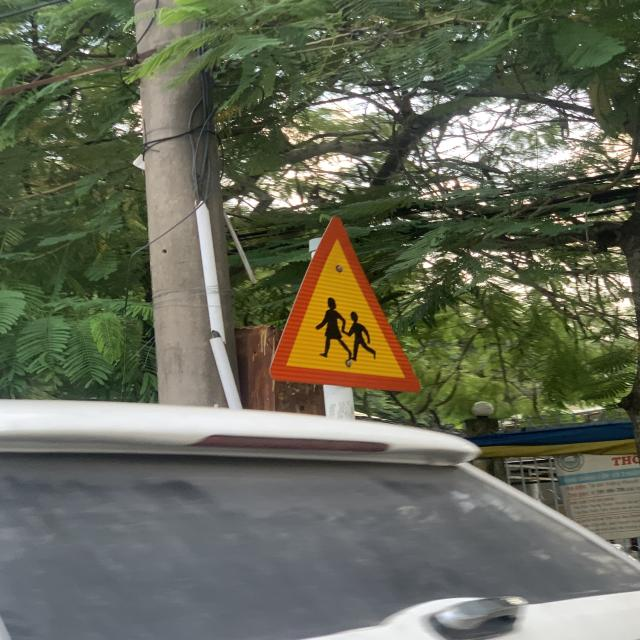Vong_Xuyen: (265, 218, 418, 394)
